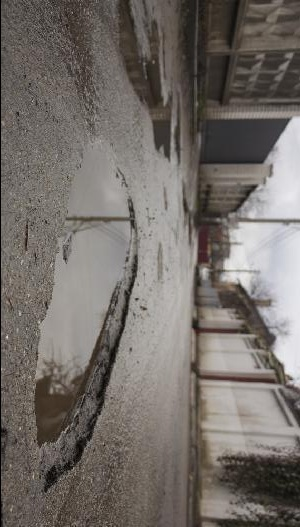pothole: (32, 137, 142, 490)
